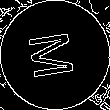M_E: (26, 28, 84, 82)
